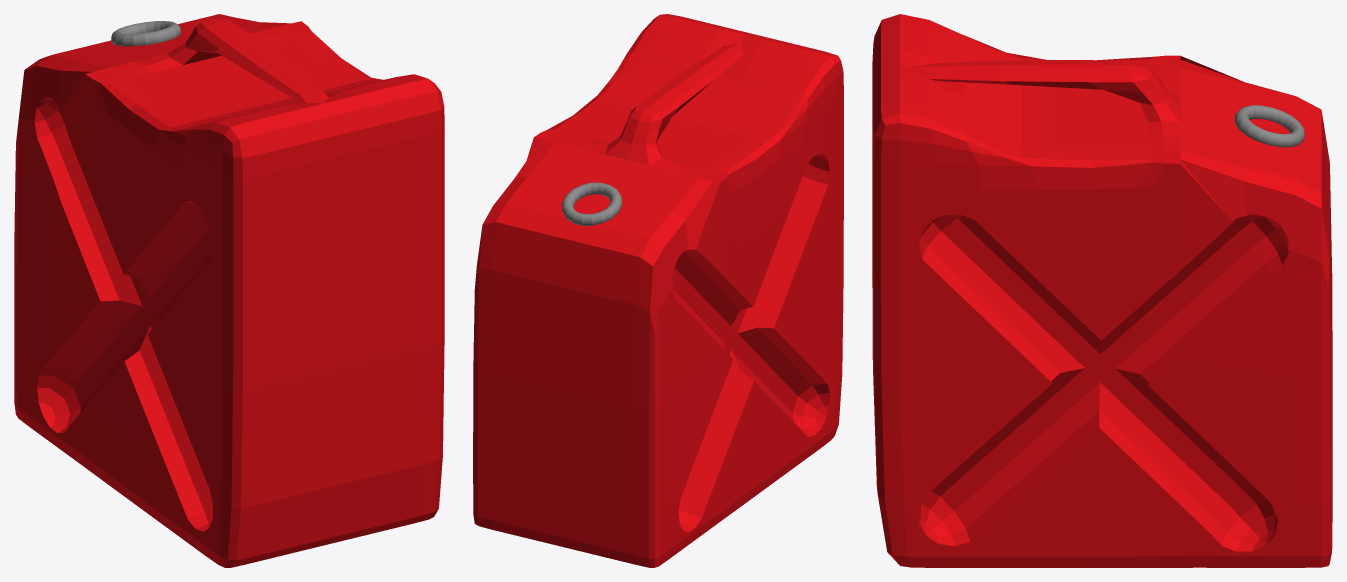
The model's file is Benzinkanister.fbx.
3 views of the same model, side by side, from view 1: azimuth 30°, elevation 25°; view 2: azimuth 150°, elevation 25°; view 3: azimuth 270°, elevation 25° (orthographic). The views are drawn at different scales.
Visible parts, largest first — view 1: Cube; view 2: Cube; view 3: Cube.
Boxes of the visible parts, <box> form: Cube: <box>14,14,444,567</box>; Cube: <box>473,14,843,567</box>; Cube: <box>872,14,1332,567</box>.
Size of the model in its own units: 125 by 246 by 226.
